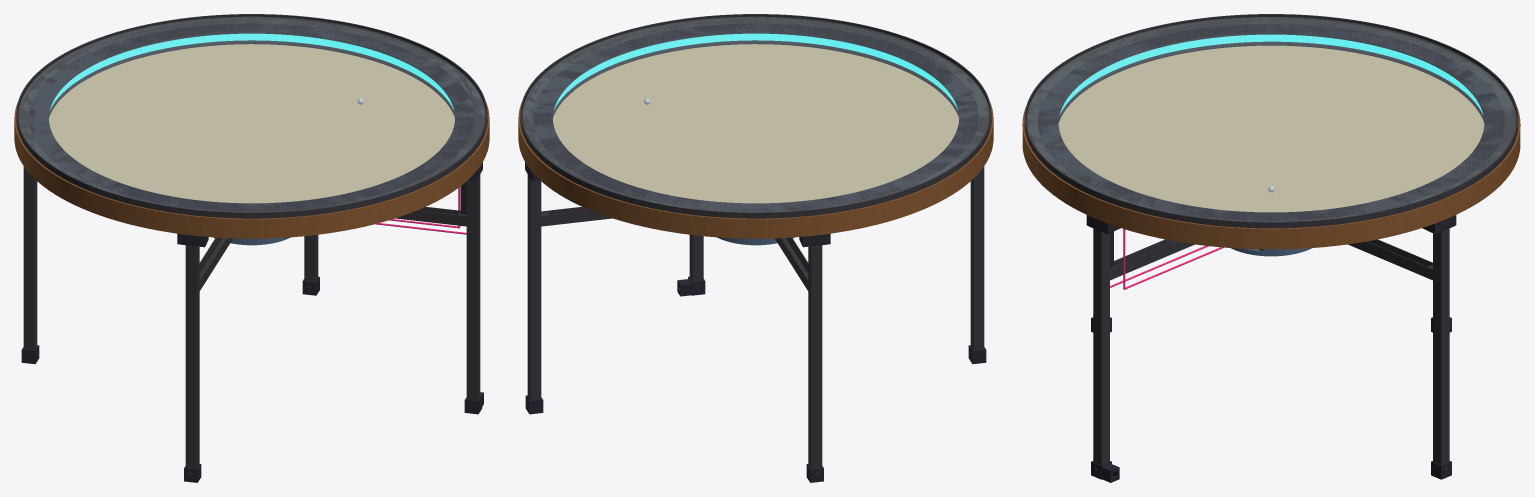
File: dune-weaver.glb
3 views of the same model, side by side, from view 1: azimuth 30°, elevation 25°; view 2: azimuth 150°, elevation 25°; view 3: azimuth 270°, elevation 25° (orthographic). The views are drawn at different scales.
Parts seen in each view (by area): view 1: glass, sand, steel, print, wood, led; view 2: glass, sand, steel, print, wood, led; view 3: glass, sand, steel, print, wood, led, cable.
Part boxes in pixels (x1,y1,x2,y2): glass: [19, 17, 484, 211]; sand: [49, 44, 454, 203]; steel: [16, 14, 487, 474]; print: [16, 23, 487, 482]; wood: [14, 102, 489, 238]; led: [50, 33, 453, 109]; glass: [523, 17, 988, 212]; sand: [553, 44, 958, 203]; steel: [520, 14, 991, 474]; print: [520, 23, 991, 482]; wood: [518, 102, 993, 238]; led: [554, 33, 957, 109]; glass: [1027, 17, 1515, 221]; sand: [1058, 45, 1484, 212]; steel: [1024, 14, 1518, 469]; print: [1024, 24, 1518, 482]; wood: [1022, 106, 1520, 249]; led: [1060, 34, 1482, 114]; cable: [1110, 229, 1223, 289].
Bounding box in the file's own units: 0.7562 × 0.478 × 0.7564.
